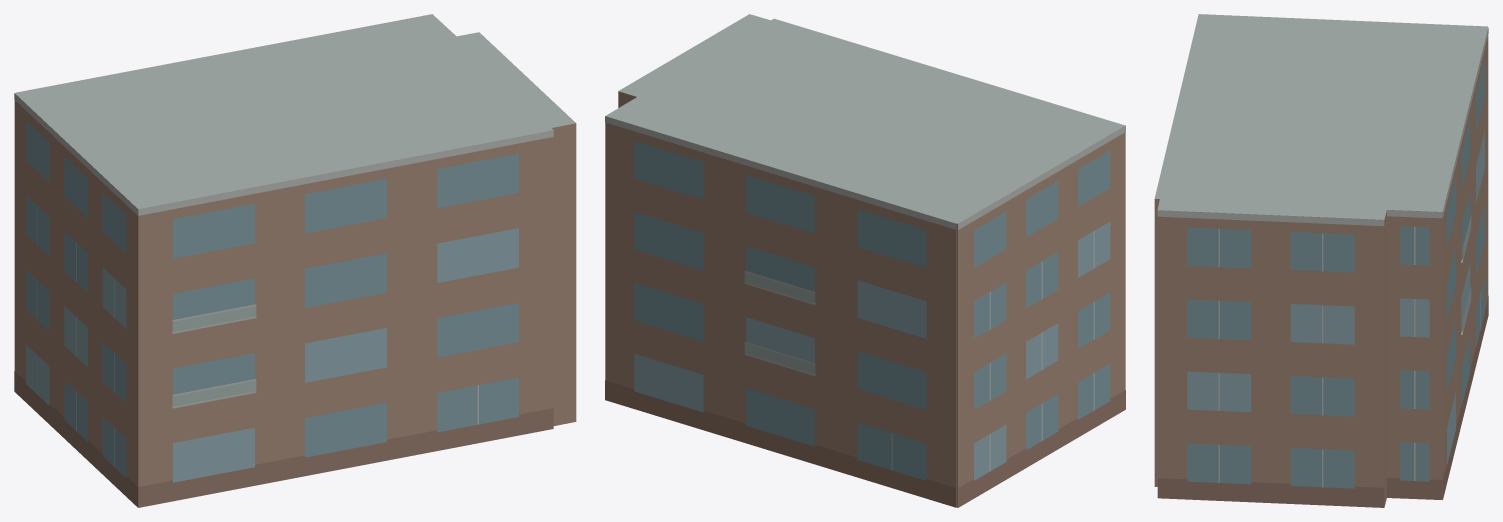
Rendered from survey-upis-33046074.glb.
The picture shows the model from 3 angles, left to right: view 1: azimuth 30°, elevation 25°; view 2: azimuth 150°, elevation 25°; view 3: azimuth 270°, elevation 25°; orthographic projection. The views are drawn at different scales.
Visible parts, largest first — view 1: survey-upis-33046074.tmp; view 2: survey-upis-33046074.tmp; view 3: survey-upis-33046074.tmp.
Part boxes in pixels (<box>): survey-upis-33046074.tmp: <box>14,14,576,507</box>; survey-upis-33046074.tmp: <box>605,14,1125,507</box>; survey-upis-33046074.tmp: <box>1154,14,1488,507</box>.
Bounding box in the file's own units: 16.86 × 10.99 × 11.56.
